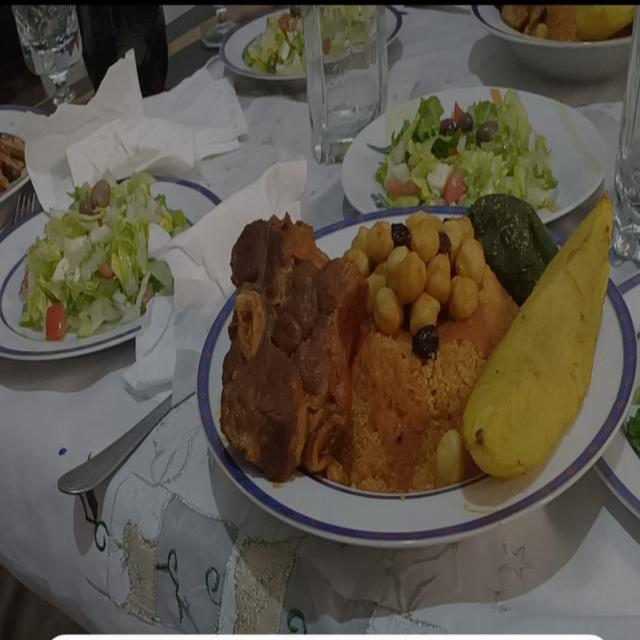Couscous: (358, 193, 500, 465)
